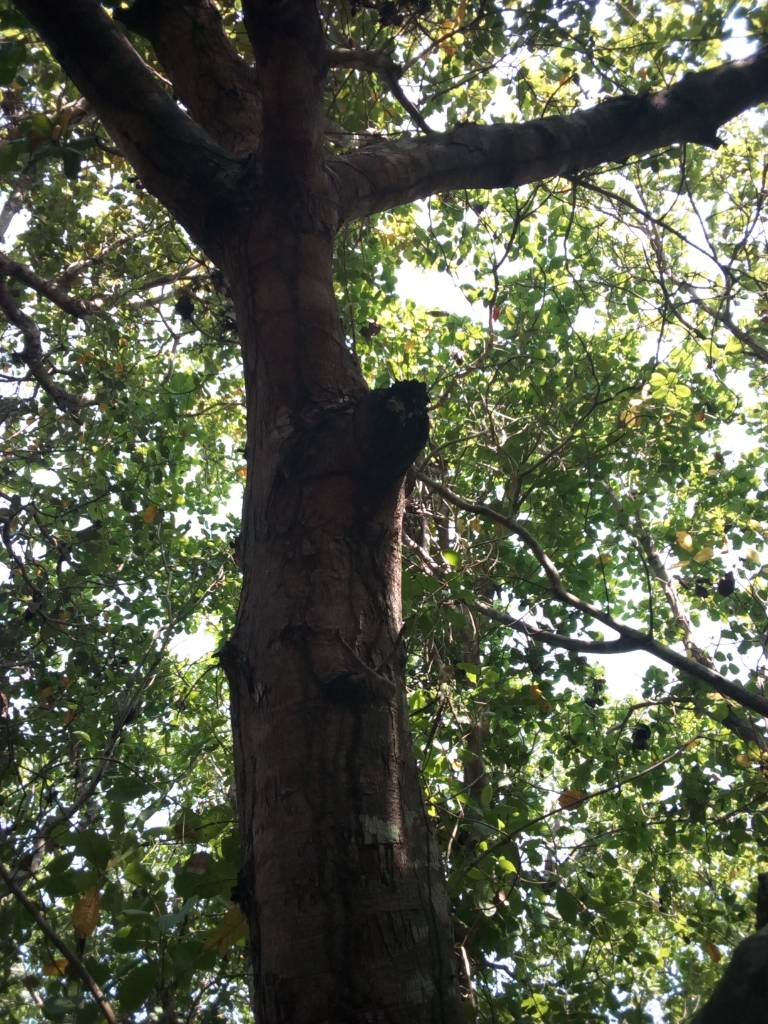Termites: (286, 466, 418, 971)
